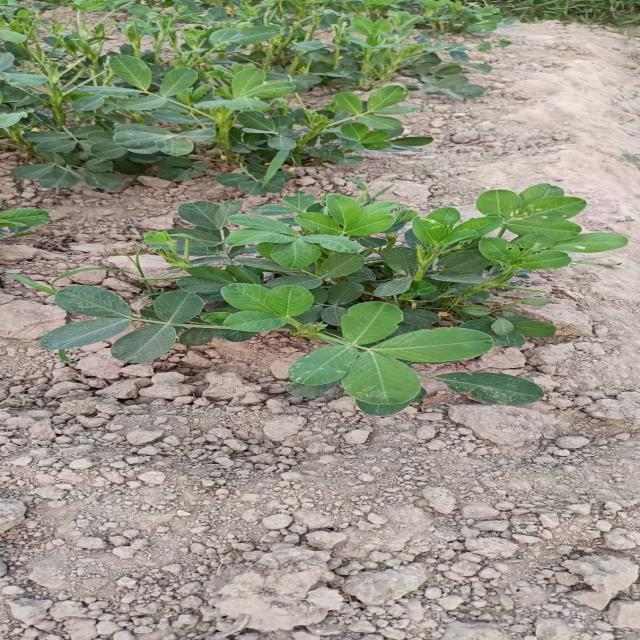plant: (39, 185, 627, 415)
